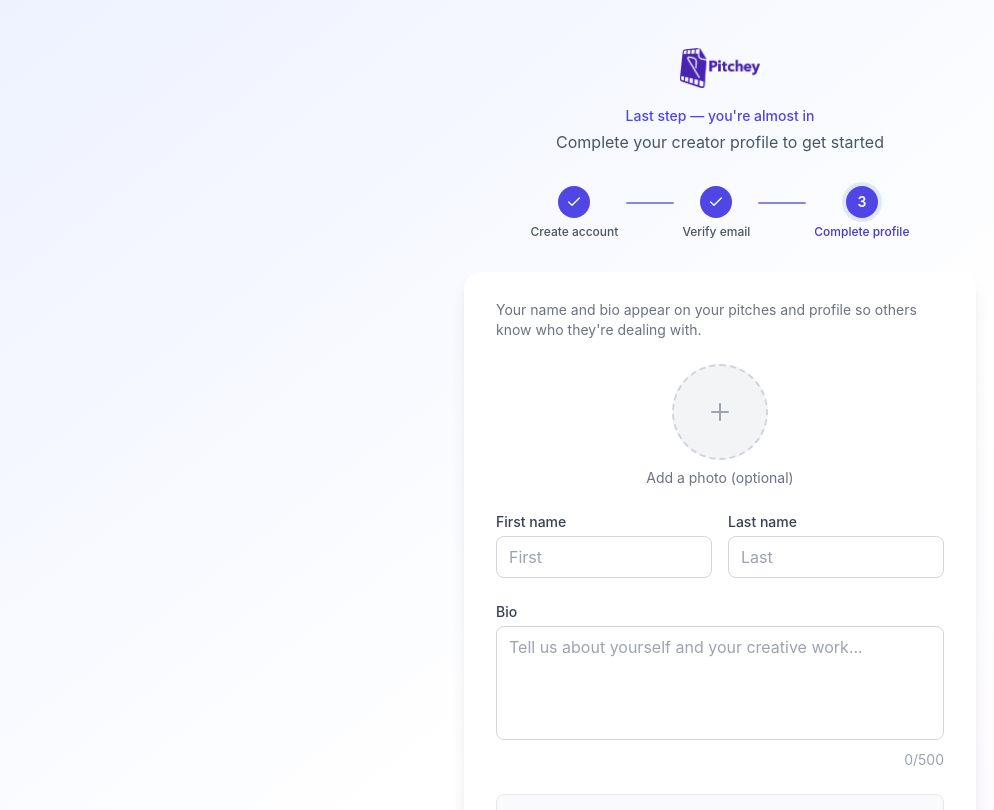
Test: CreatorOnboardingPage (OnboardingPage) › Submit button state › submit button becomes enabled when all fields filled and terms accepted
Type "John" into the field labelled "First name". click: (604, 557)
box: [496, 536, 712, 578]
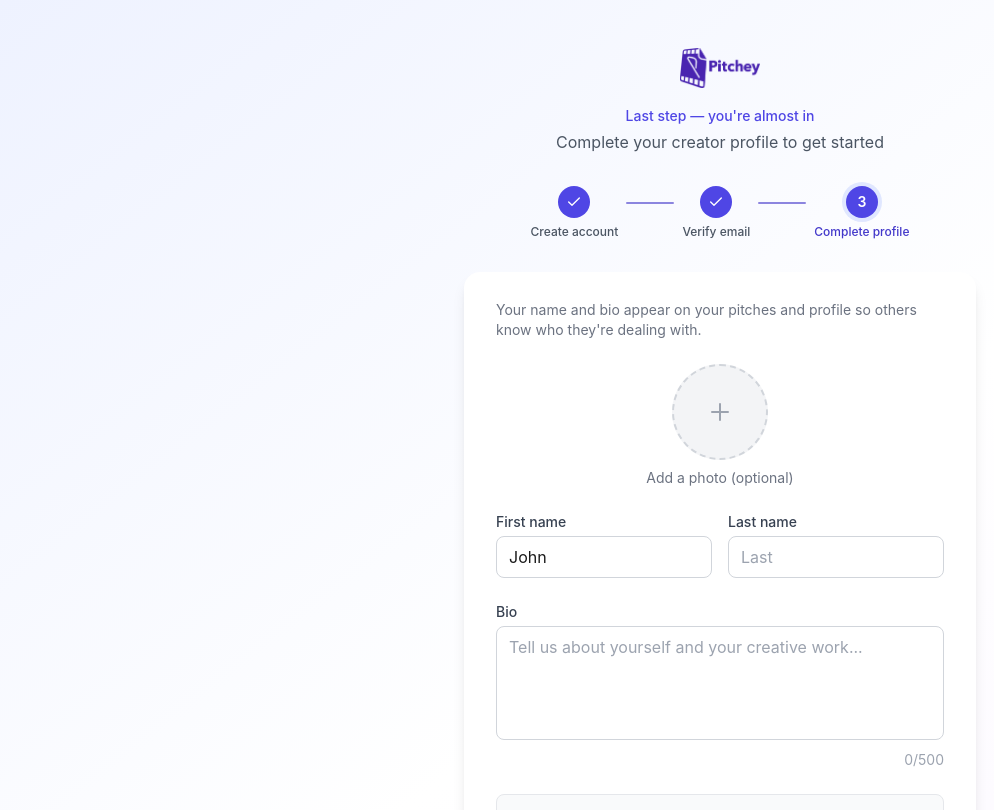
Type "Doe" into the field labelled "Last name". click: (836, 557)
box: [728, 536, 944, 578]
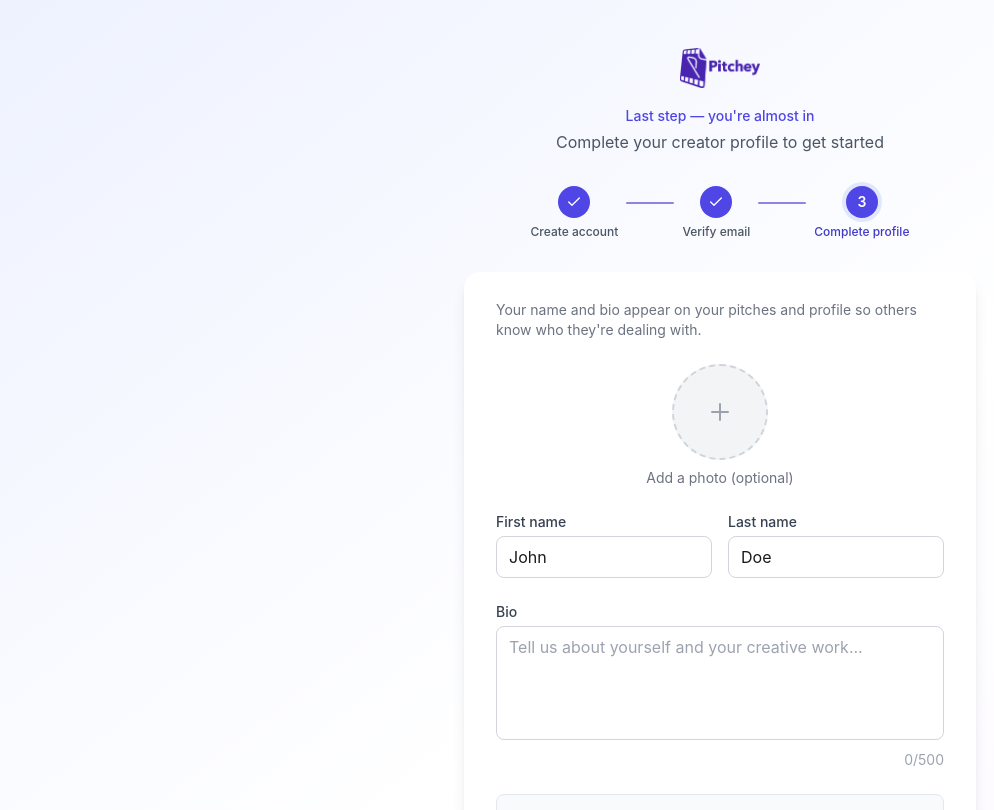
Type "I am a filmmaker." into the text box labelled "Bio". click: (720, 683)
box: [496, 626, 944, 740]
(page scrolled)
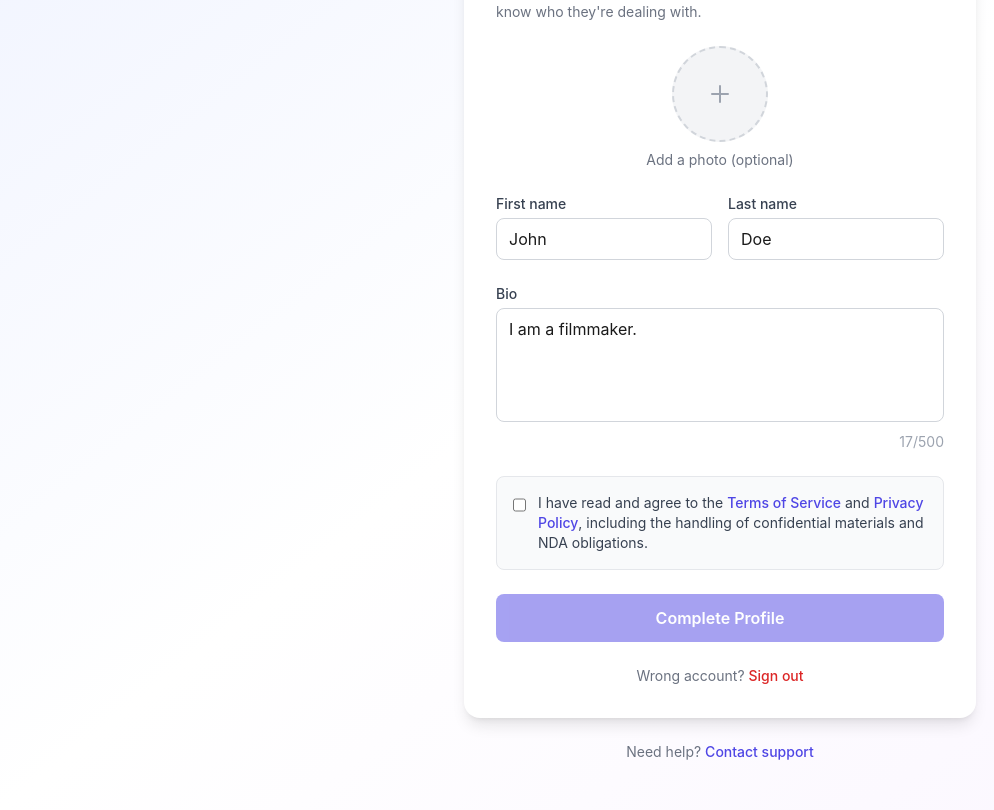
Click the checkbox. click: (520, 505)
box: [513, 495, 526, 515]
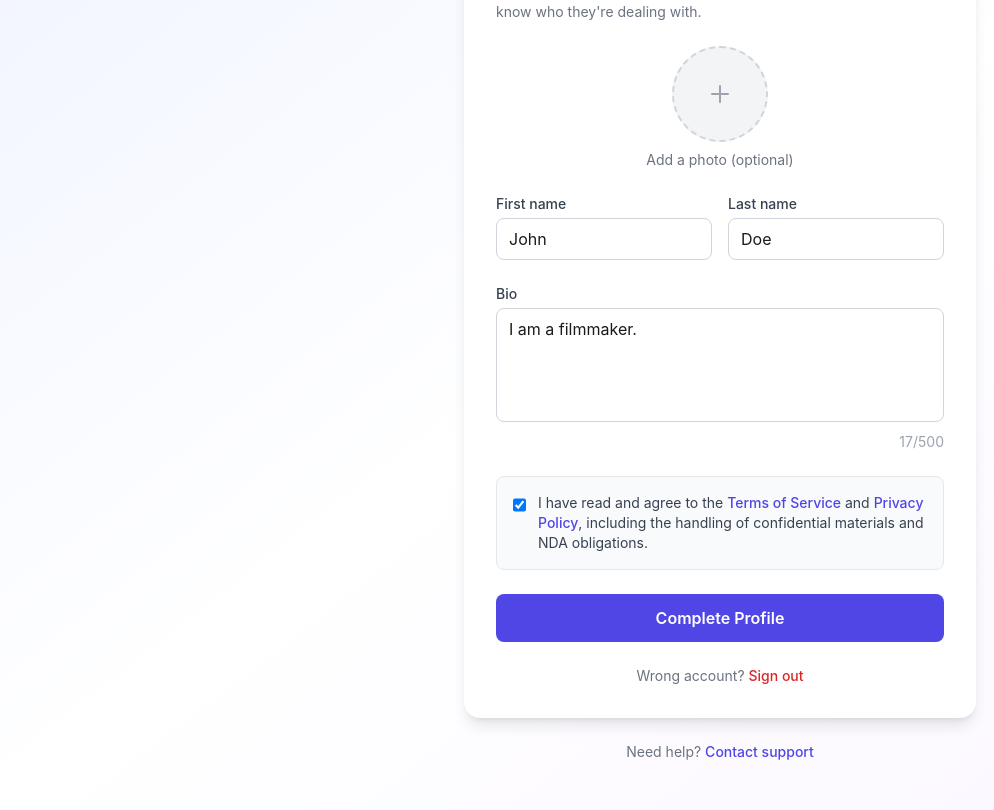
Expected: the button "Complete Profile" is enabled, [496, 594, 944, 642]
